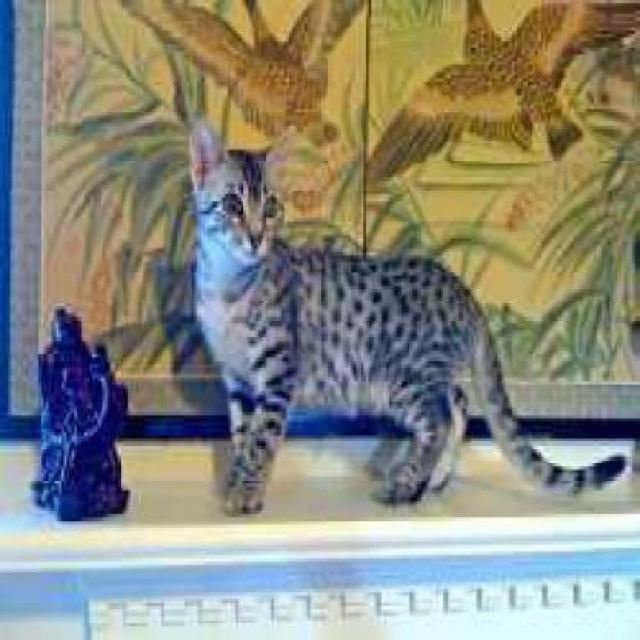cat: (187, 122, 627, 521)
